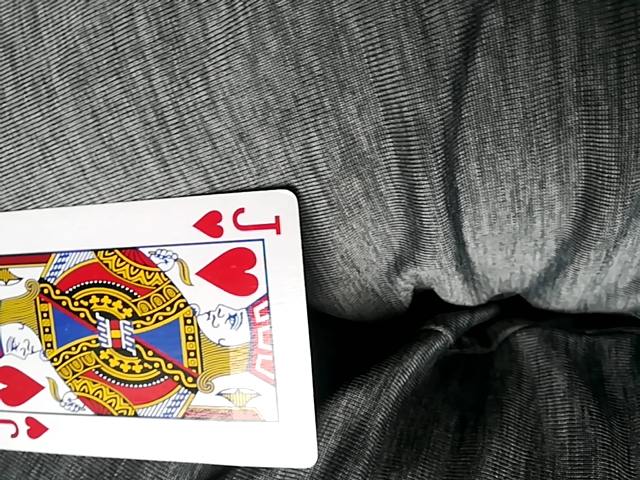hx j: (1, 188, 317, 472)
